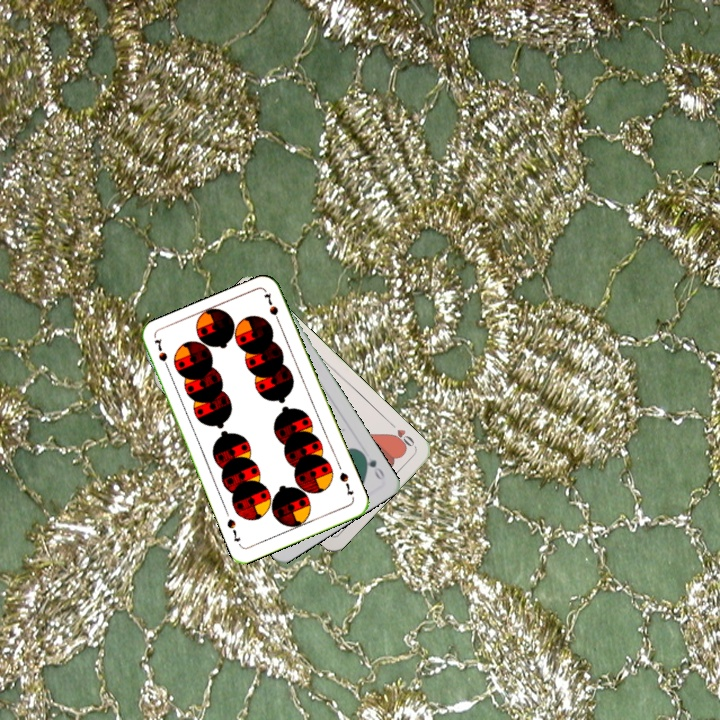GO: (357, 448, 387, 483)
HO: (385, 418, 418, 452)
S7: (150, 335, 172, 374), (335, 468, 356, 498)
